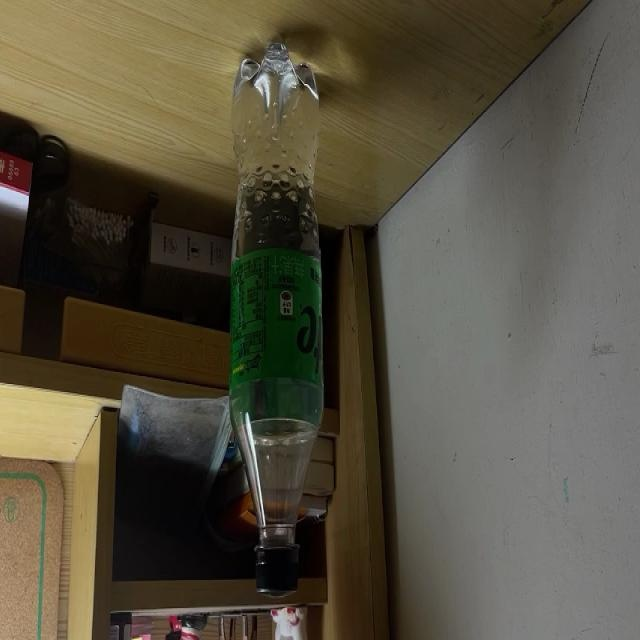Sprite: (230, 39, 326, 596)
